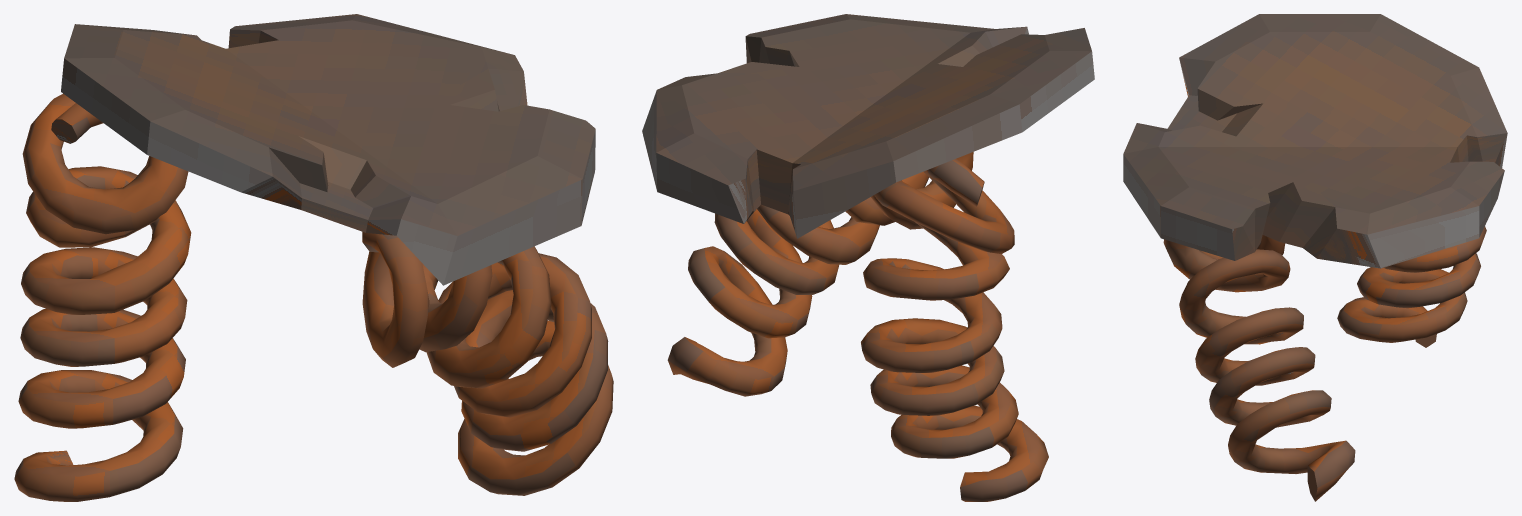
The model's file is kirik_jumppad.fbx.
3 renders of one model, left to right at view 1: azimuth 30°, elevation 25°; view 2: azimuth 150°, elevation 25°; view 3: azimuth 270°, elevation 25°, orthographic. The views are drawn at different scales.
Parts seen in each view (by area): view 1: Circle.006; view 2: Circle.006; view 3: Circle.006.
Boxes of the visible parts, left/top/right/bottom form: Circle.006: left=14, top=14, right=613, bottom=501; Circle.006: left=642, top=14, right=1094, bottom=501; Circle.006: left=1123, top=14, right=1507, bottom=501.
Size of the model in its own units: 2.72 by 2.49 by 2.6.
